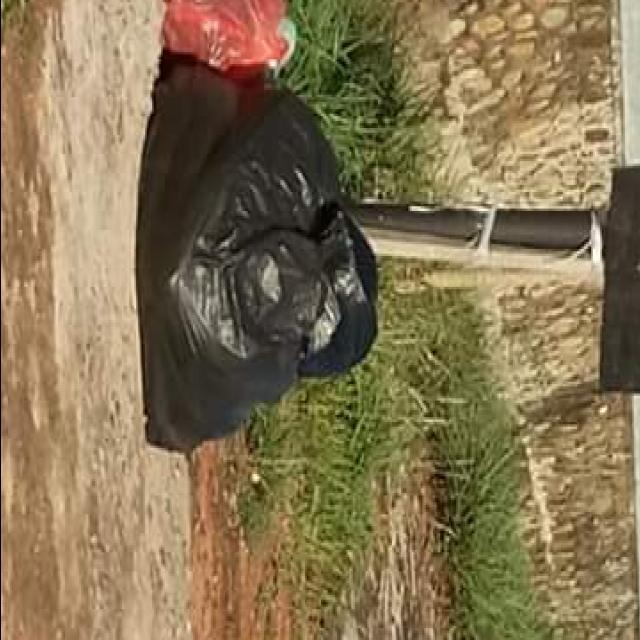Trashbag: (125, 51, 349, 462)
